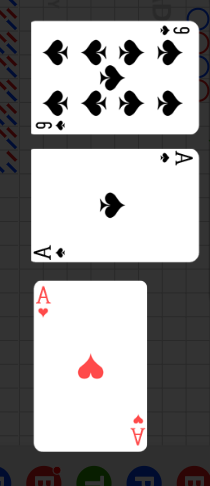9S: (34, 119, 67, 132)
AH: (36, 285, 53, 321), (129, 411, 145, 447)
